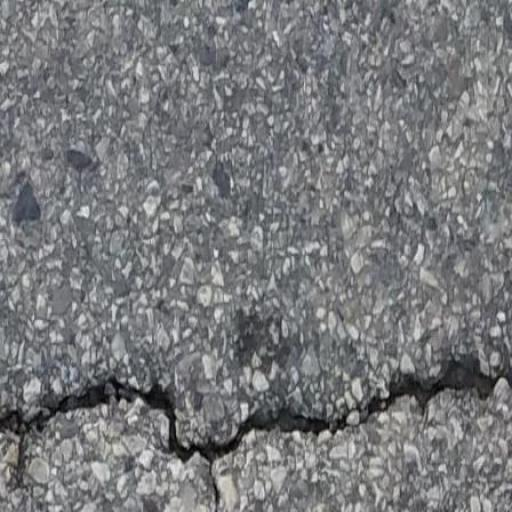spalling: (4, 351, 512, 471)
